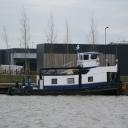tugboat: (7, 46, 125, 98)
